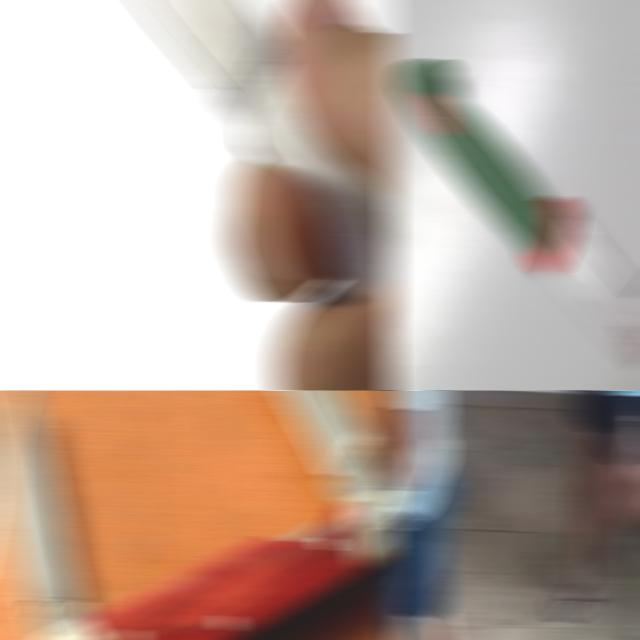Knife: (135, 0, 396, 303), (395, 57, 640, 363)
